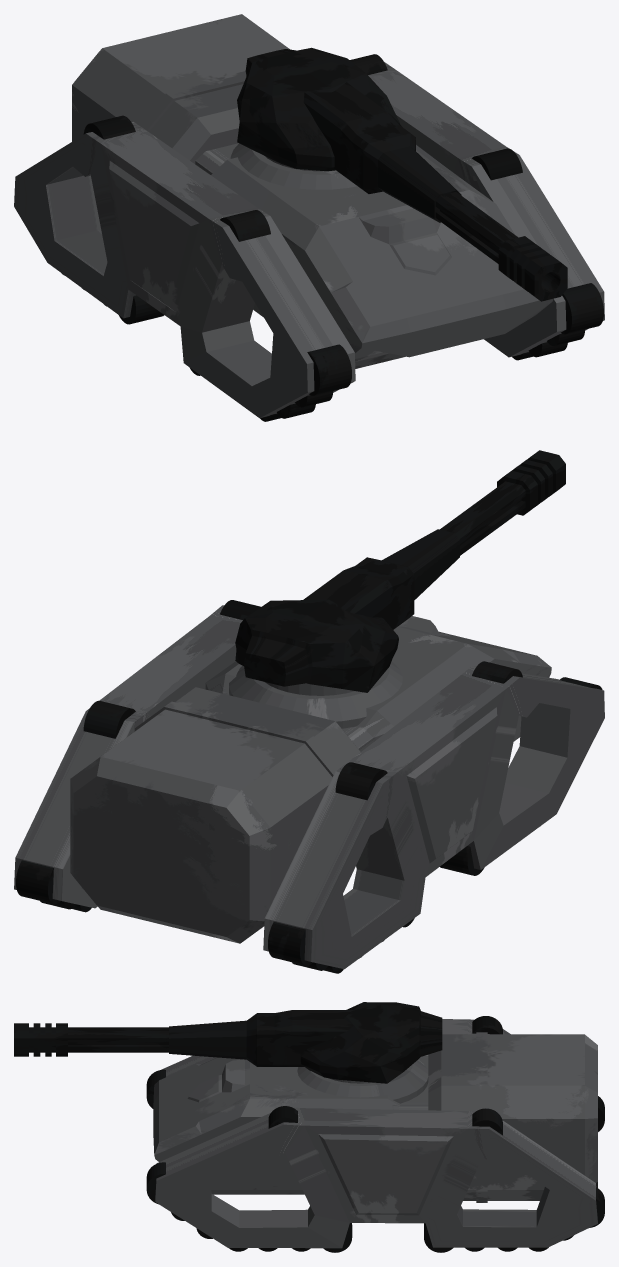
File: Tank.glb
The picture shows the model from 3 angles, top to bottom: view 1: azimuth 30°, elevation 25°; view 2: azimuth 150°, elevation 25°; view 3: azimuth 270°, elevation 25°; orthographic projection. The views are drawn at different scales.
Parts seen in each view (by area): view 1: TrackFrame1.001, Crew, Storage, TrackFrame1, Turret1, Turret1.001, Barrel1, PivotCannon, Cylinder.024, Cylinder.008, Cylinder.030, Cylinder.012 (+2 smaller); view 2: TrackFrame1.001, Storage, TrackFrame1, Turret1, Crew, Turret1.001, Barrel1, PivotCannon, Cylinder.014, Cylinder.029, Cylinder.015, Cylinder.031 (+1 smaller); view 3: TrackFrame1, Storage, Crew, Turret1, Turret1.001, Barrel1, PivotCannon, TrackFrame1.001, Cylinder.015, Cylinder.031, Cylinder.012, Cylinder.008 (+1 smaller).
Boxes of the visible parts, left/top/right/bottom form: TrackFrame1.001: left=14, top=122, right=355, bottom=418; Crew: left=195, top=143, right=553, bottom=368; Storage: left=72, top=14, right=289, bottom=163; TrackFrame1: left=368, top=62, right=604, bottom=357; Turret1: left=237, top=47, right=399, bottom=171; Turret1.001: left=303, top=82, right=461, bottom=222; Barrel1: left=435, top=192, right=567, bottom=301; PivotCannon: left=230, top=143, right=357, bottom=189; Cylinder.024: left=307, top=344, right=351, bottom=395; Cylinder.008: left=561, top=283, right=603, bottom=334; Cylinder.030: left=220, top=210, right=270, bottom=241; Cylinder.012: left=472, top=148, right=522, bottom=180; TrackFrame1.001: left=263, top=666, right=604, bottom=969; Storage: left=70, top=687, right=360, bottom=943; TrackFrame1: left=14, top=605, right=242, bottom=908; Turret1: left=235, top=599, right=398, bottom=692; Crew: left=205, top=616, right=551, bottom=751; Turret1.001: left=303, top=529, right=459, bottom=629; Barrel1: left=440, top=450, right=565, bottom=555; PivotCannon: left=229, top=661, right=402, bottom=728; Cylinder.014: left=16, top=860, right=60, bottom=904; Cylinder.029: left=268, top=922, right=312, bottom=965; Cylinder.015: left=83, top=700, right=135, bottom=738; Cylinder.031: left=335, top=762, right=387, bottom=800; TrackFrame1: left=155, top=1107, right=597, bottom=1248; Storage: left=428, top=1032, right=597, bottom=1202; Crew: left=153, top=1055, right=428, bottom=1194; Turret1: left=300, top=1002, right=442, bottom=1083; Turret1.001: left=169, top=1010, right=353, bottom=1066; Barrel1: left=14, top=1023, right=168, bottom=1056; PivotCannon: left=297, top=1059, right=428, bottom=1103; TrackFrame1.001: left=161, top=1019, right=510, bottom=1076; Cylinder.015: left=472, top=1108, right=502, bottom=1135; Cylinder.031: left=472, top=1016, right=502, bottom=1034; Cylinder.012: left=268, top=1106, right=297, bottom=1128; Cylinder.008: left=146, top=1162, right=165, bottom=1204.
Size of the model in its own units: 7.15 by 5.47 by 15.86.
Materials: 3 (3 with a texture image).
